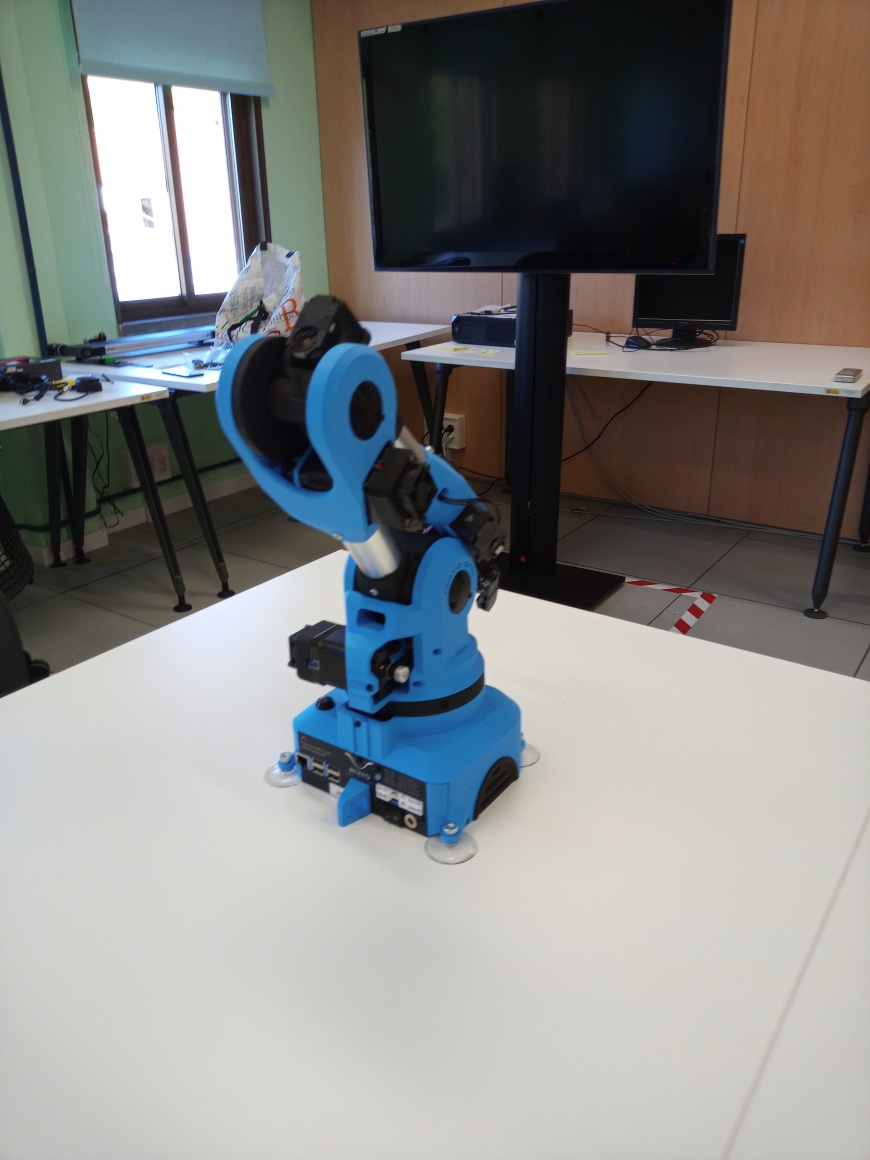robot: (221, 296, 546, 870)
